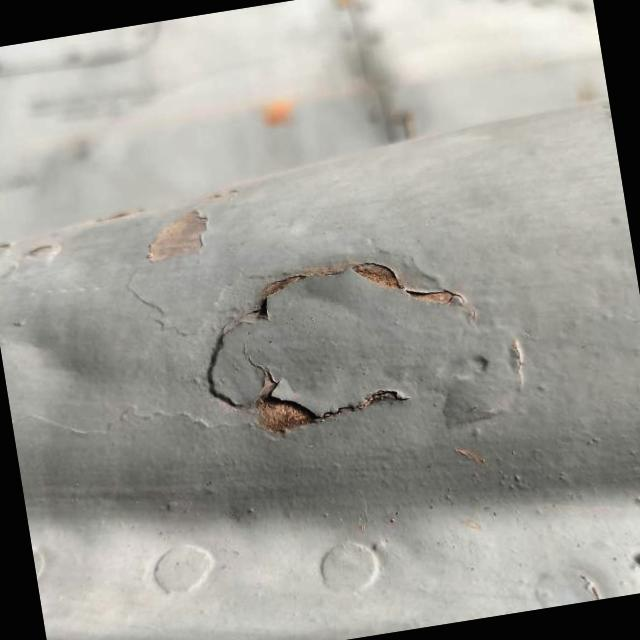paint-off: (168, 201, 494, 488)
